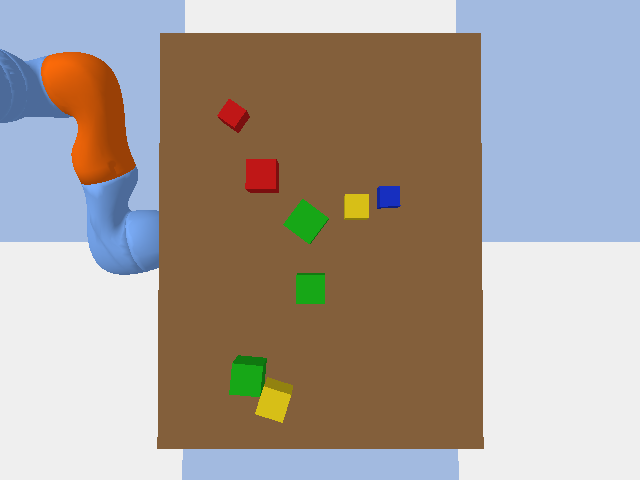blue_obj: (377, 186, 400, 208)
green_obj: (283, 199, 328, 243), (229, 355, 266, 396), (296, 273, 324, 303)
red_obj: (245, 159, 278, 192), (217, 99, 249, 132)
yellow_obj: (255, 377, 292, 422), (344, 194, 368, 219)
